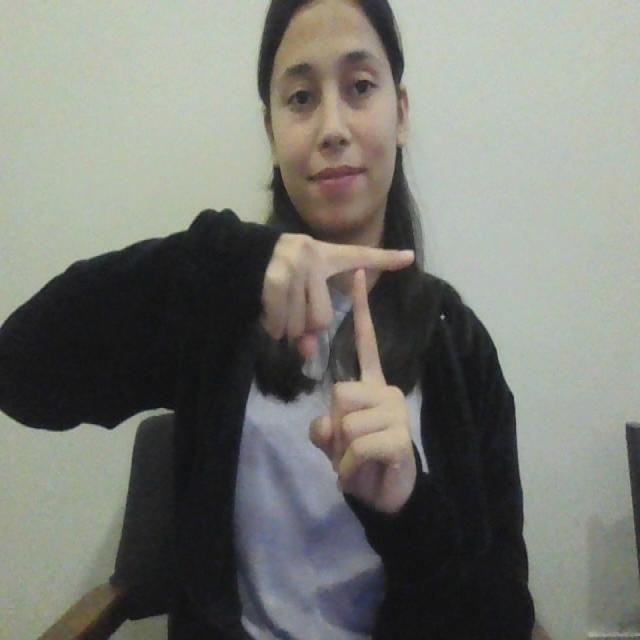Tesekkurler: (296, 211, 414, 405)
